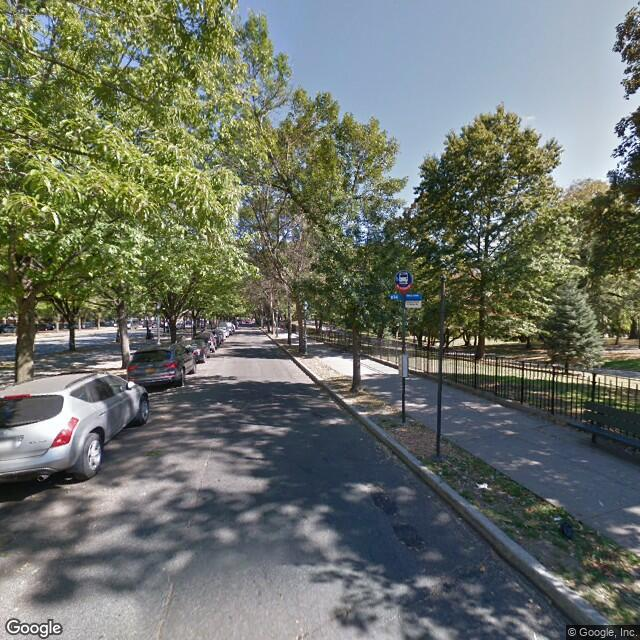litter: (475, 481, 496, 496)
